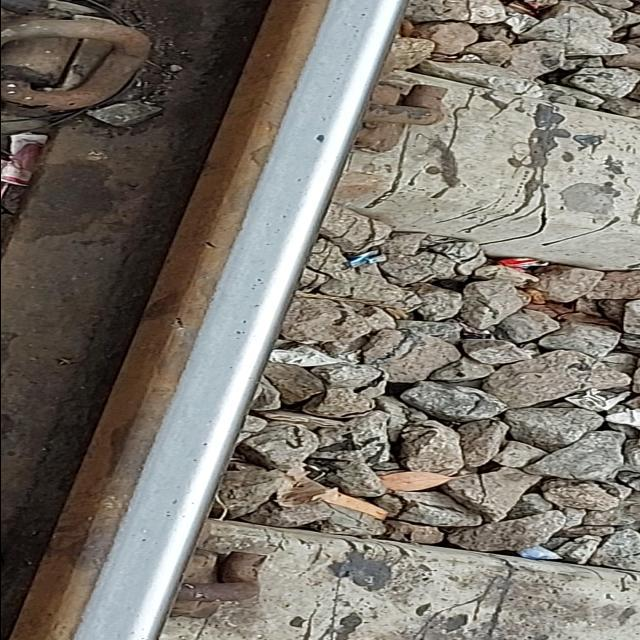squats_high: (229, 320, 253, 334), (247, 279, 267, 291), (312, 134, 328, 144)
